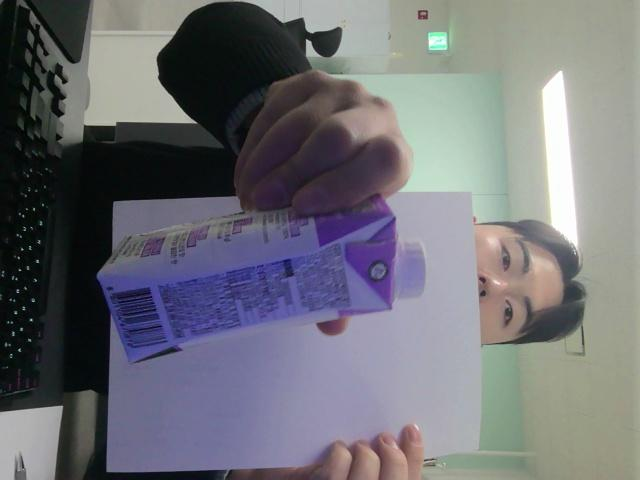milk: (98, 198, 426, 362)
